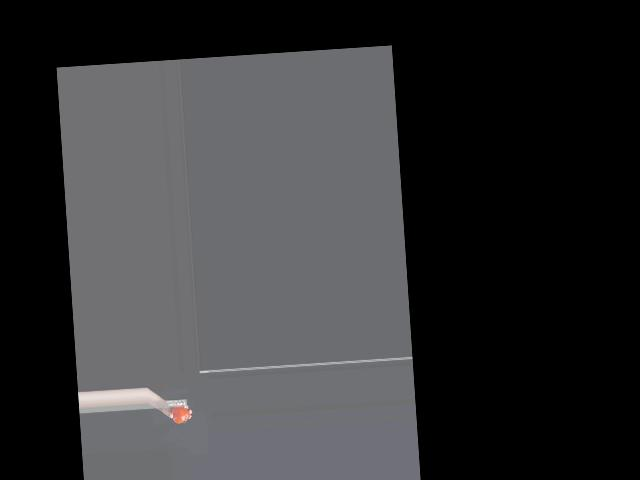tomato: (171, 405, 190, 424)
